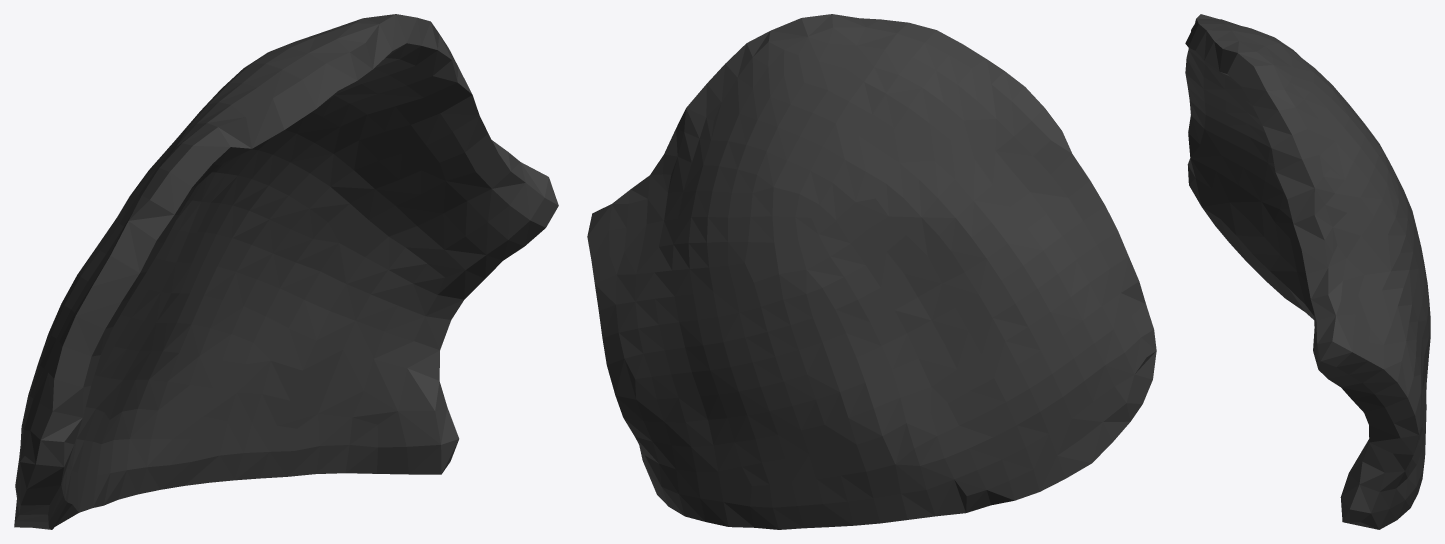
File: ATRIUM_R.glb
3 views of the same model, side by side, from view 1: azimuth 30°, elevation 25°; view 2: azimuth 150°, elevation 25°; view 3: azimuth 270°, elevation 25° (orthographic). The views are drawn at different scales.
Parts seen in each view (by area): view 1: ATRIUM_R; view 2: ATRIUM_R; view 3: ATRIUM_R.
Boxes of the visible parts, x1,y1,x2,y2 form: ATRIUM_R: [14, 14, 558, 529]; ATRIUM_R: [587, 14, 1156, 529]; ATRIUM_R: [1185, 14, 1430, 529].
Size of the model in its own units: 54.03 by 46.67 by 24.14.
Materials: 1 (1 with a texture image).
